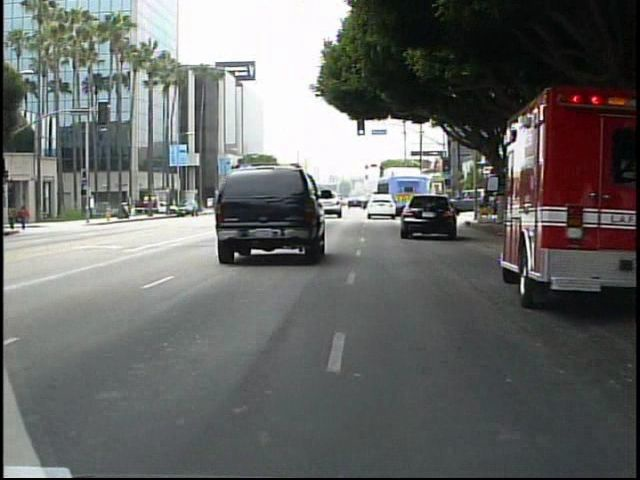person: (7, 203, 21, 231), (21, 202, 33, 234)
